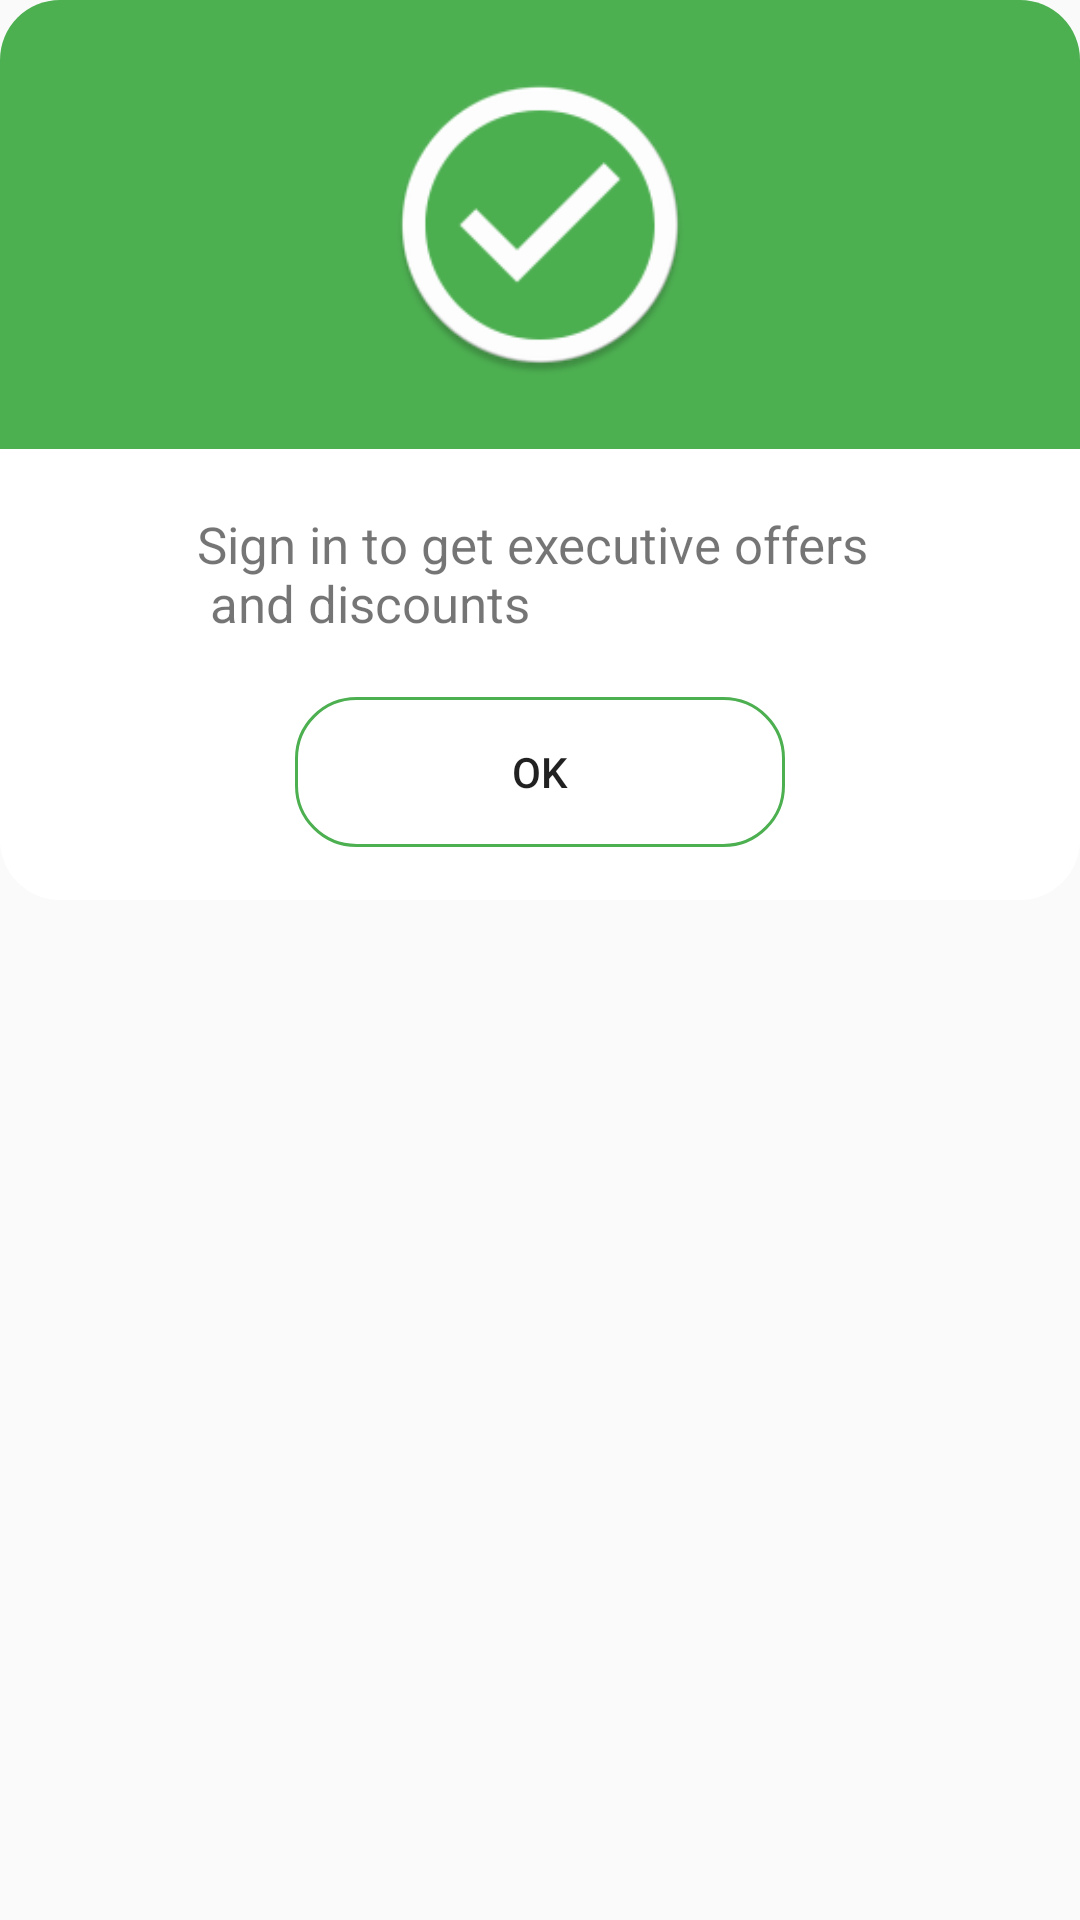

Locate icon controls on the screen. Image size 1080 x 1920, boxes as (x1, y1, x2, y2).
check icon: (402, 86, 678, 368)
